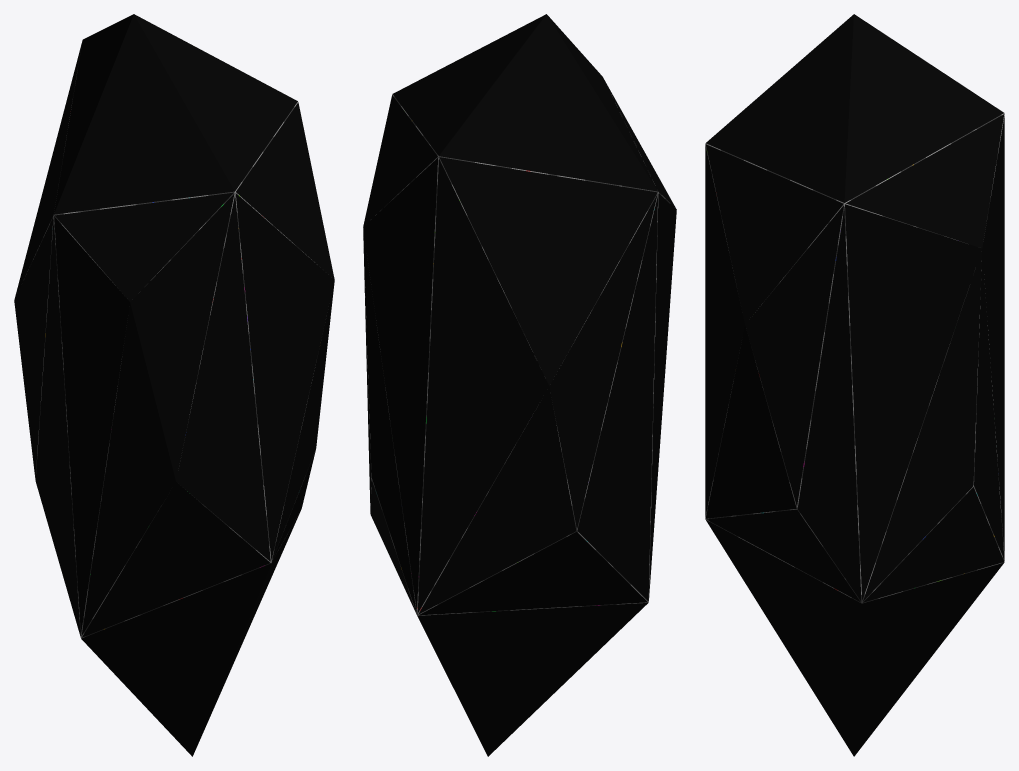
File: CrystalWhole-EdgeWear02.glb
3 renders of one model, left to right at view 1: azimuth 30°, elevation 25°; view 2: azimuth 150°, elevation 25°; view 3: azimuth 270°, elevation 25°, orthographic. The views are drawn at different scales.
Parts seen in each view (by area): view 1: Crystal_EdgeWear_Test.001; view 2: Crystal_EdgeWear_Test.001; view 3: Crystal_EdgeWear_Test.001.
Part boxes in pixels (x1,y1,x2,y2): Crystal_EdgeWear_Test.001: (14,14,334,756); Crystal_EdgeWear_Test.001: (363,14,676,756); Crystal_EdgeWear_Test.001: (705,14,1004,756).
Size of the model in its own units: 1.48 by 3.99 by 1.51.
Materials: 1 (1 with a texture image).
